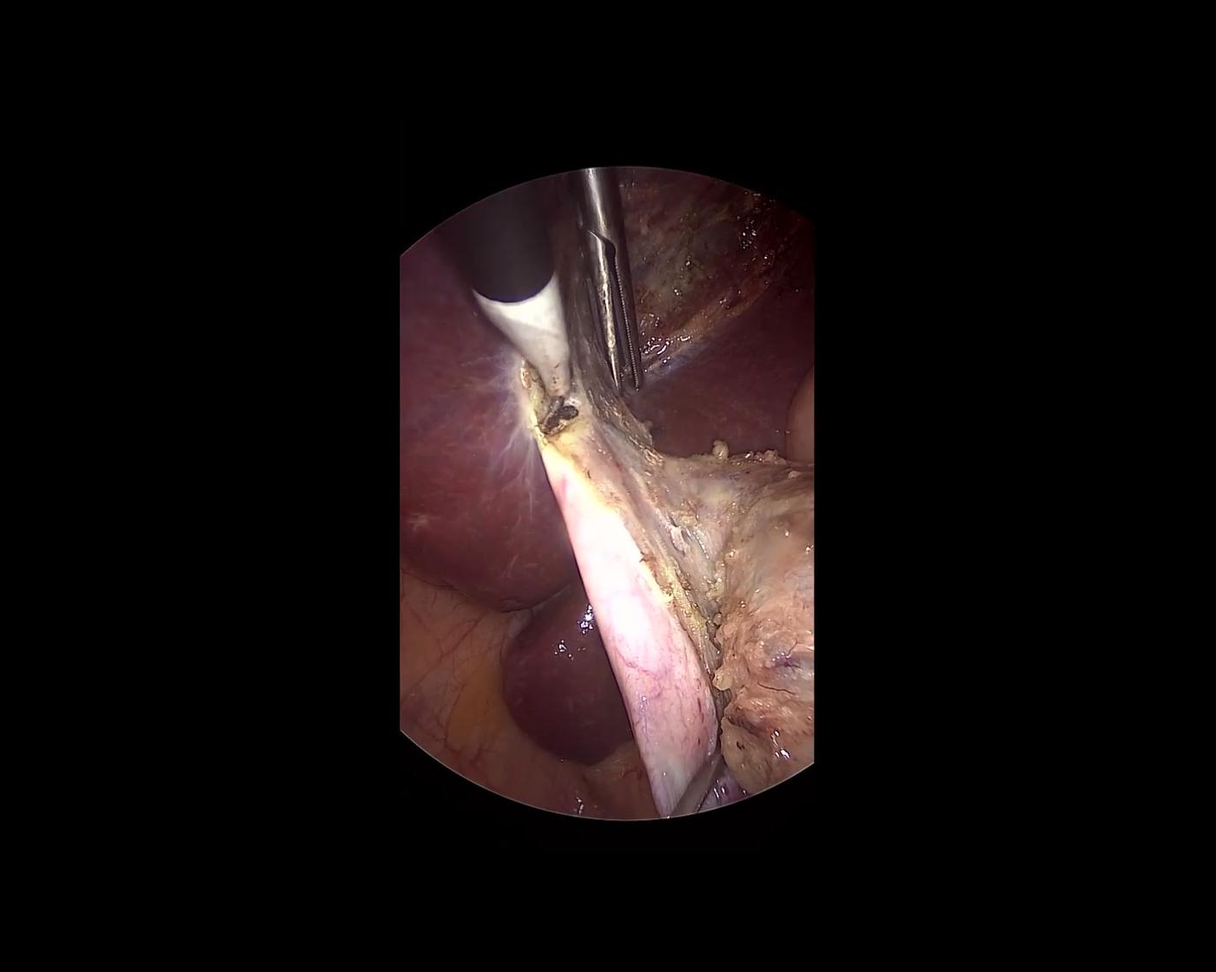Cautery: (431, 178, 591, 443)
Forceps: (571, 166, 644, 397)
Gallbladder: (537, 369, 891, 823)
Liver: (319, 216, 637, 799), (619, 213, 915, 511)
